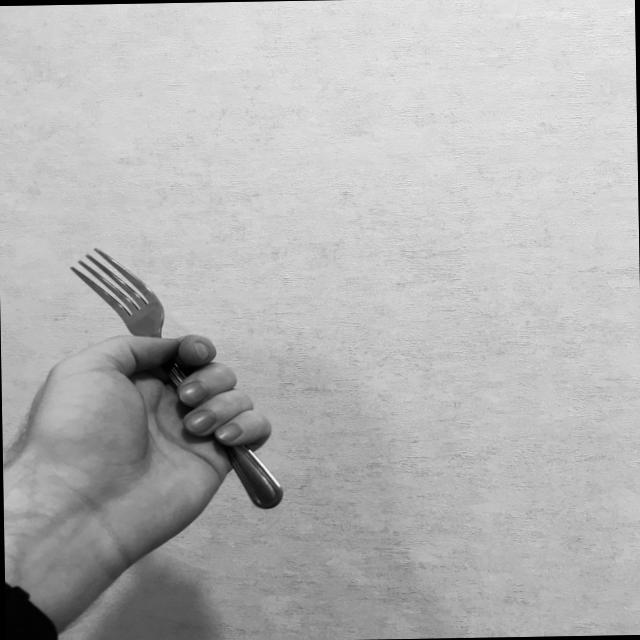fork: (69, 242, 284, 514)
